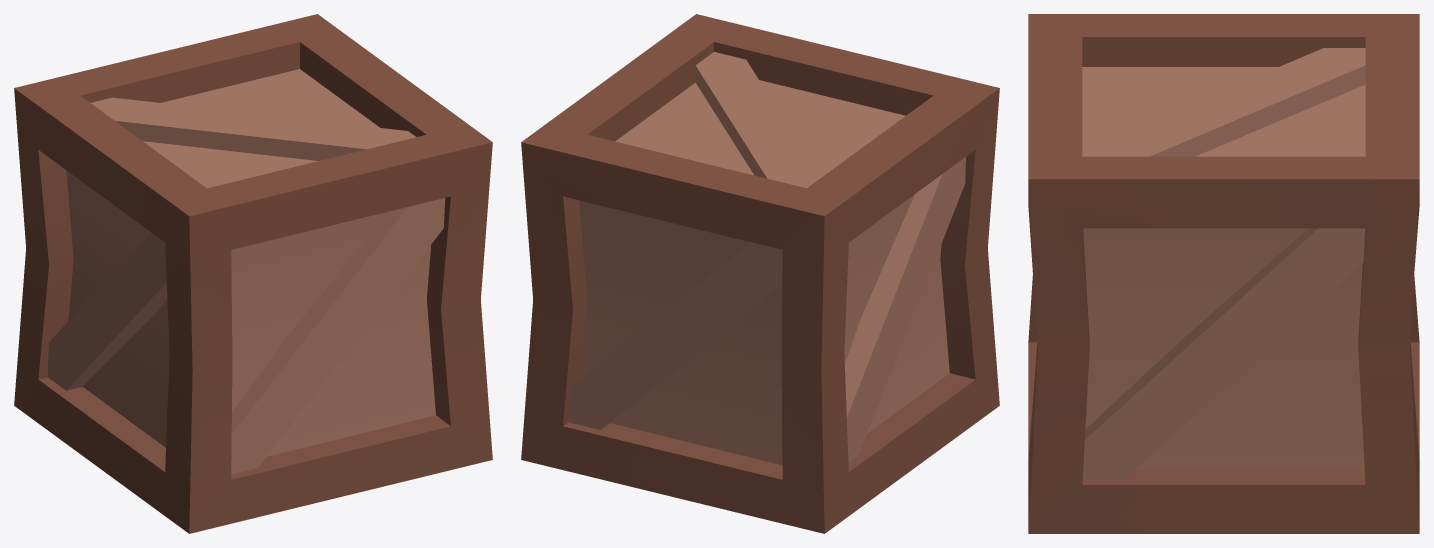
Rendered from Crate.fbx.
3 views of the same model, side by side, from view 1: azimuth 30°, elevation 25°; view 2: azimuth 150°, elevation 25°; view 3: azimuth 270°, elevation 25° (orthographic). The views are drawn at different scales.
Parts seen in each view (by area): view 1: Crate; view 2: Crate; view 3: Crate.
Part boxes in pixels (x1,y1,x2,y2): Crate: (14, 14, 492, 533); Crate: (521, 14, 999, 533); Crate: (1028, 14, 1419, 533).
Size of the model in its own units: 42.2 by 42.2 by 42.2.
